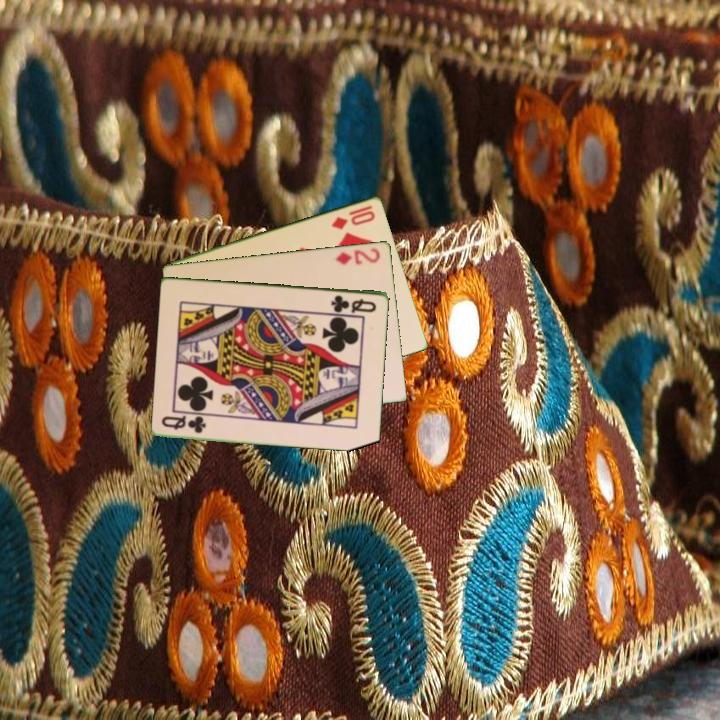10d: (328, 201, 378, 232)
2d: (332, 244, 383, 267)
Qc: (158, 412, 209, 436), (328, 292, 379, 315)
